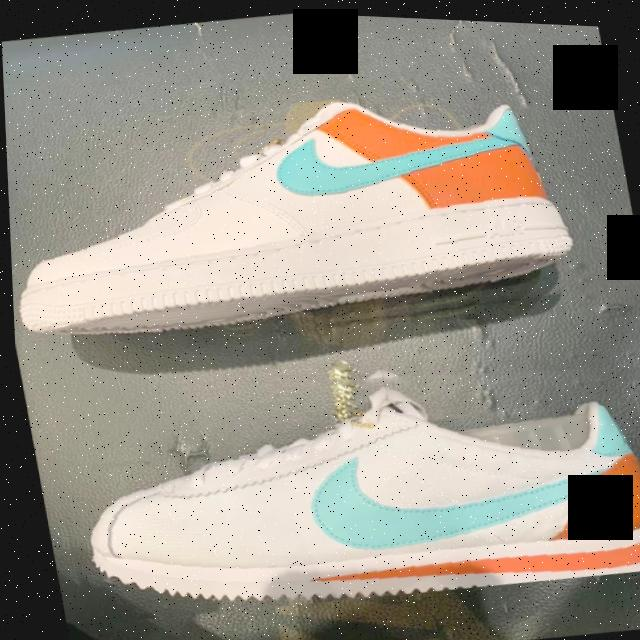shoe: (25, 306, 640, 640), (2, 54, 601, 383)
